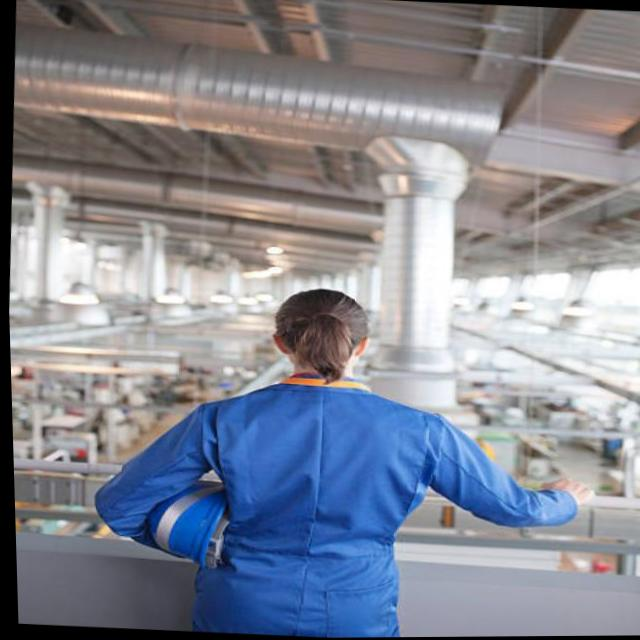no helmet: (240, 280, 403, 389)
